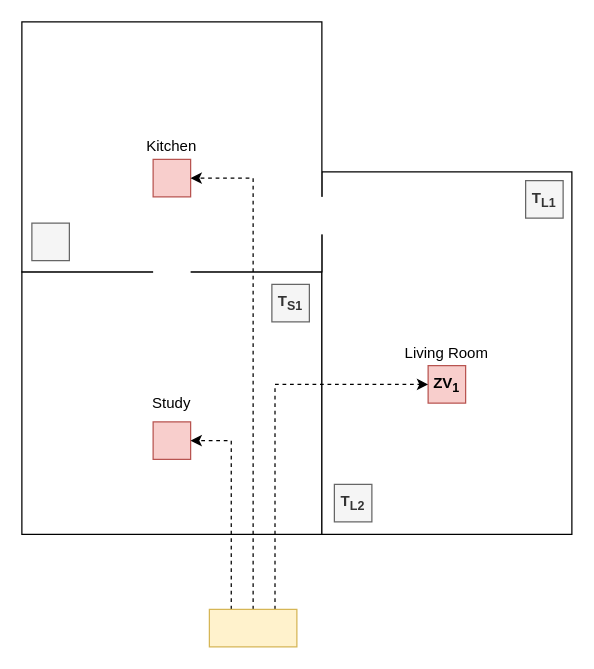
The diagram is 594 pixels wide and 669 high, and some of its shapes have lost their labels. The shapes that lost their labels are listed below. From the top down, each one's centre as x and y in pixels, then its label:
At pixel 171 177: "ZV 2".
At pixel 50 241: "T K1".
At pixel 171 440: "ZV 3".
At pixel 252 627: "PUMP".
